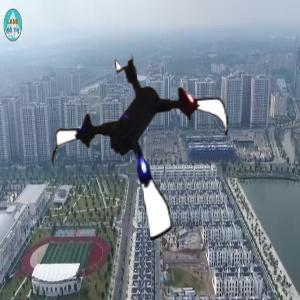drone: (48, 50, 240, 242)
